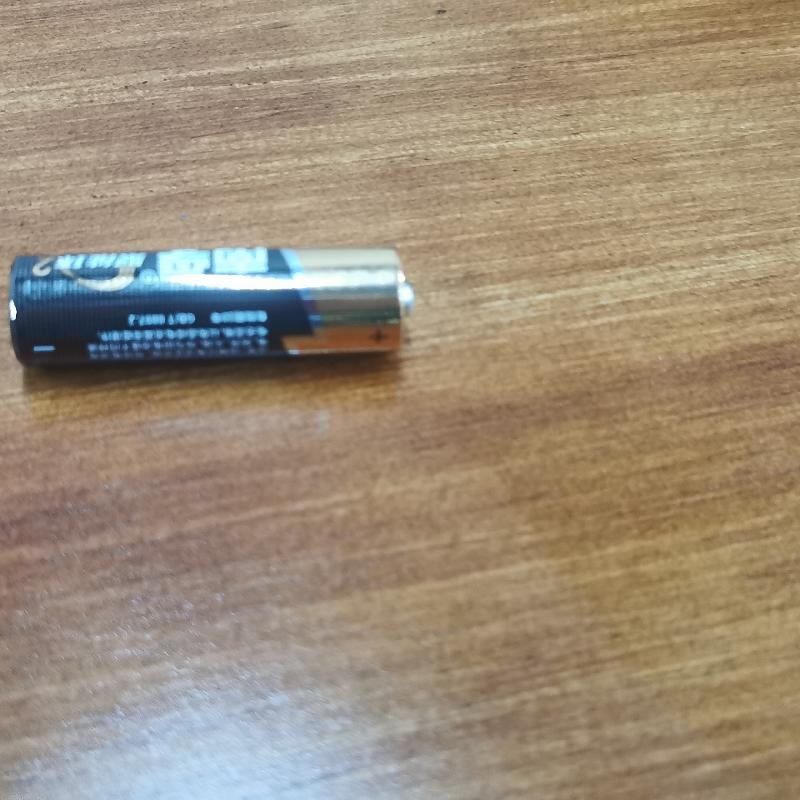battery: (7, 237, 416, 374)
